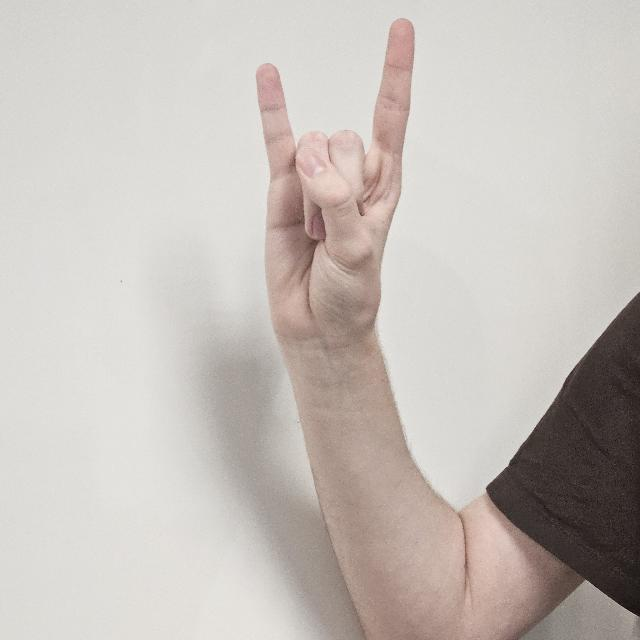L: (256, 16, 414, 364)
